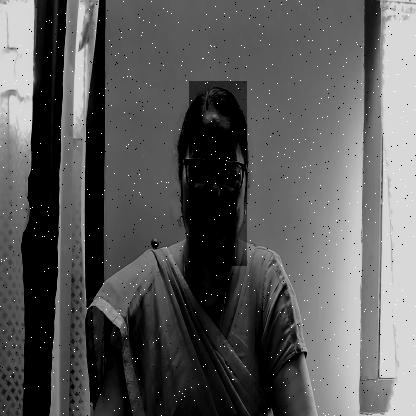Normal: (188, 81, 246, 266)
